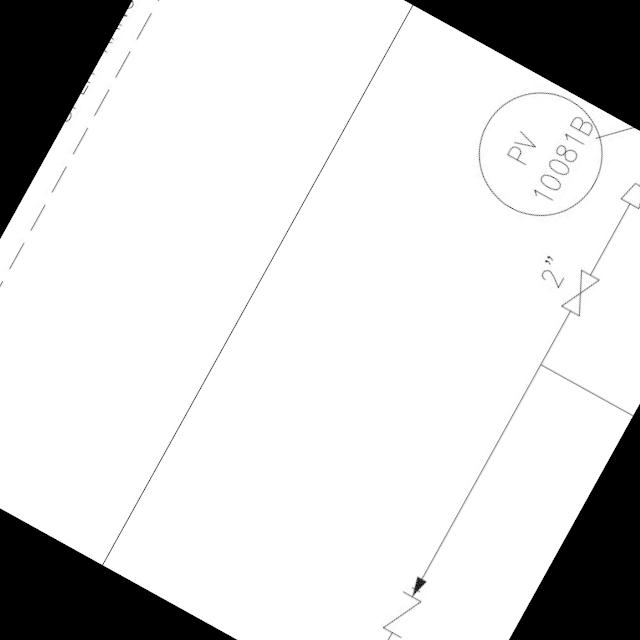GV: (554, 262, 606, 323)
SP: (613, 175, 640, 215)
